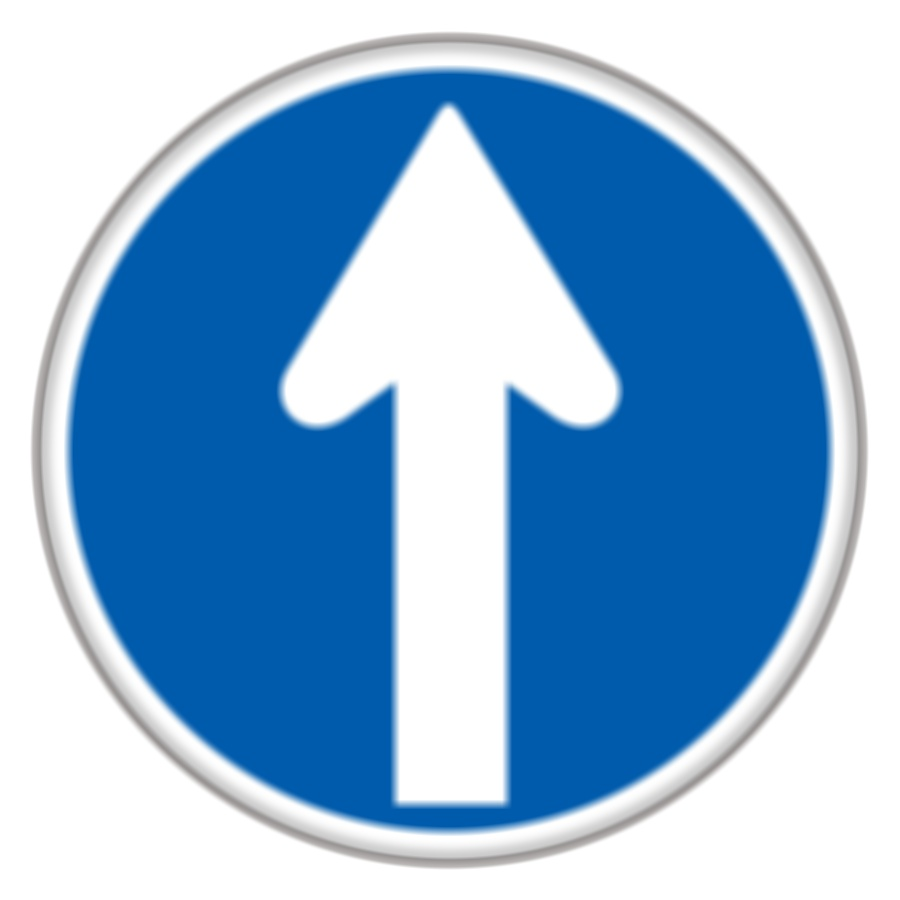Direction_sign: (37, 21, 886, 890)
